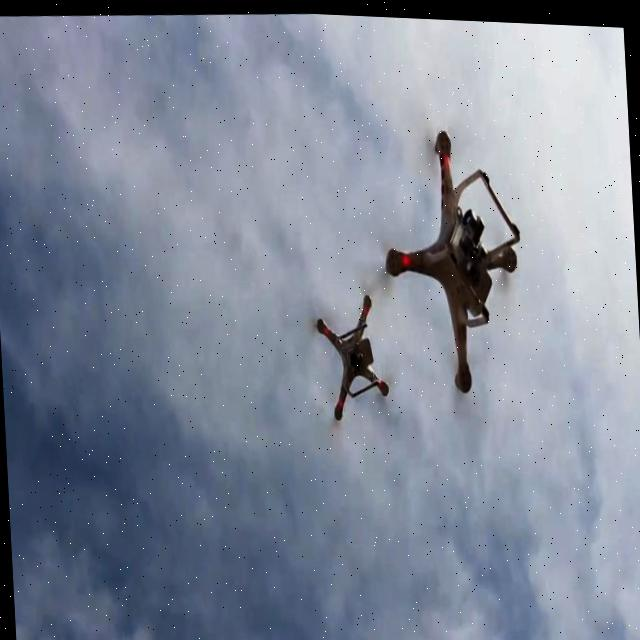drone: (379, 114, 531, 397), (311, 283, 393, 420)
